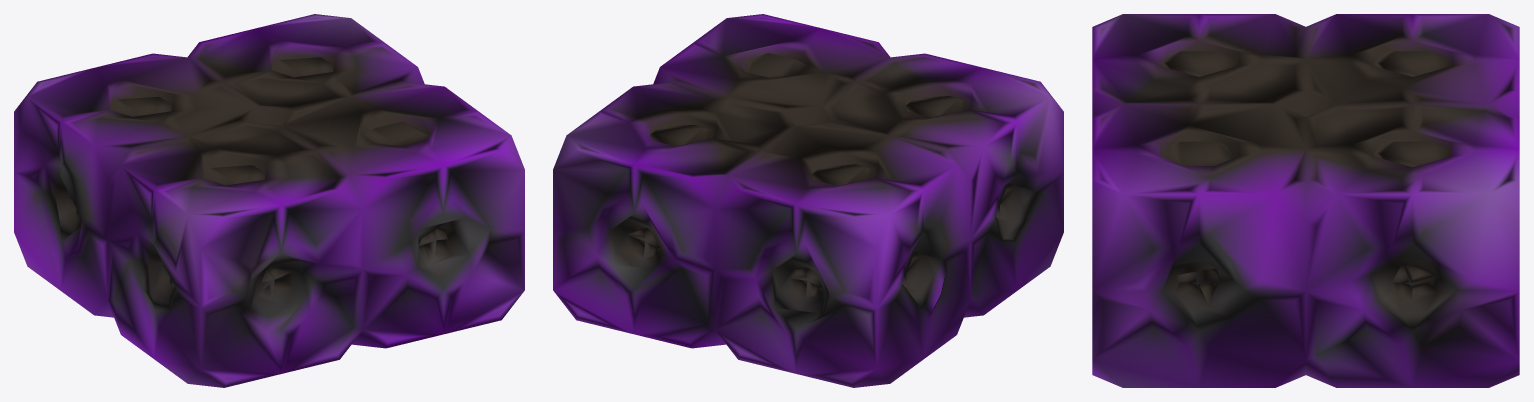
File: ciws_base_lod3.glb
The picture shows the model from 3 angles, left to right: view 1: azimuth 30°, elevation 25°; view 2: azimuth 150°, elevation 25°; view 3: azimuth 270°, elevation 25°; orthographic projection. The views are drawn at different scales.
Visible parts, largest first — view 1: ciws_base; view 2: ciws_base; view 3: ciws_base.
Boxes of the visible parts, left/top/right/bottom form: ciws_base: left=14, top=14, right=524, bottom=387; ciws_base: left=553, top=14, right=1063, bottom=387; ciws_base: left=1092, top=14, right=1519, bottom=387.
Bounding box in the file's own units: 4 × 2 × 4.
